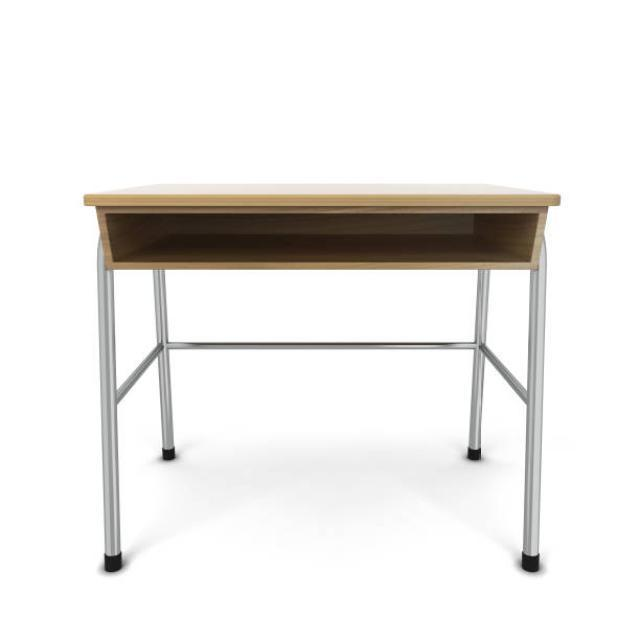table: (82, 182, 560, 574)
